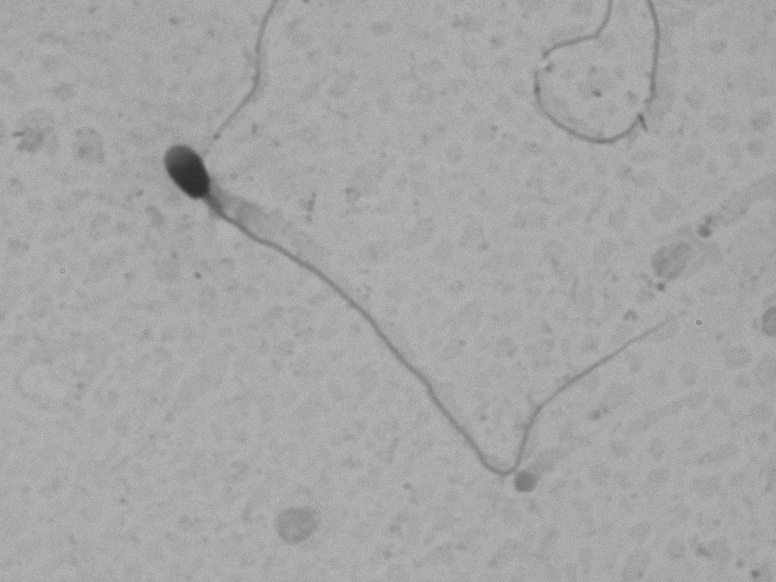Normal: (156, 135, 704, 516)
